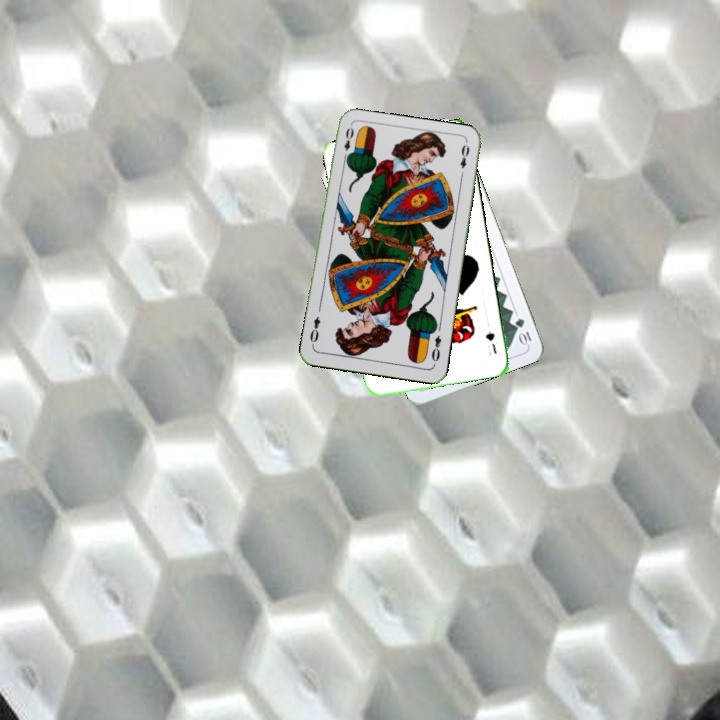EO: (339, 123, 356, 163), (427, 331, 444, 364)
G10: (511, 314, 534, 348)
GU: (481, 327, 499, 356)
